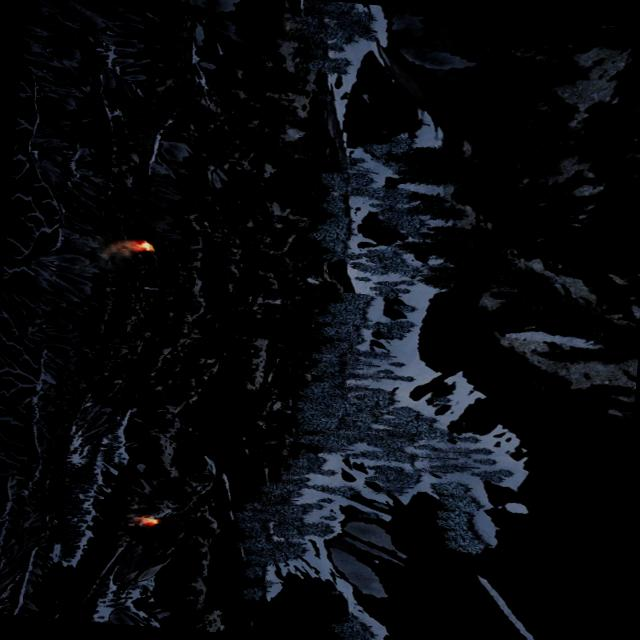fire: (134, 237, 155, 250), (142, 514, 162, 526)
smoke: (86, 234, 134, 276)
